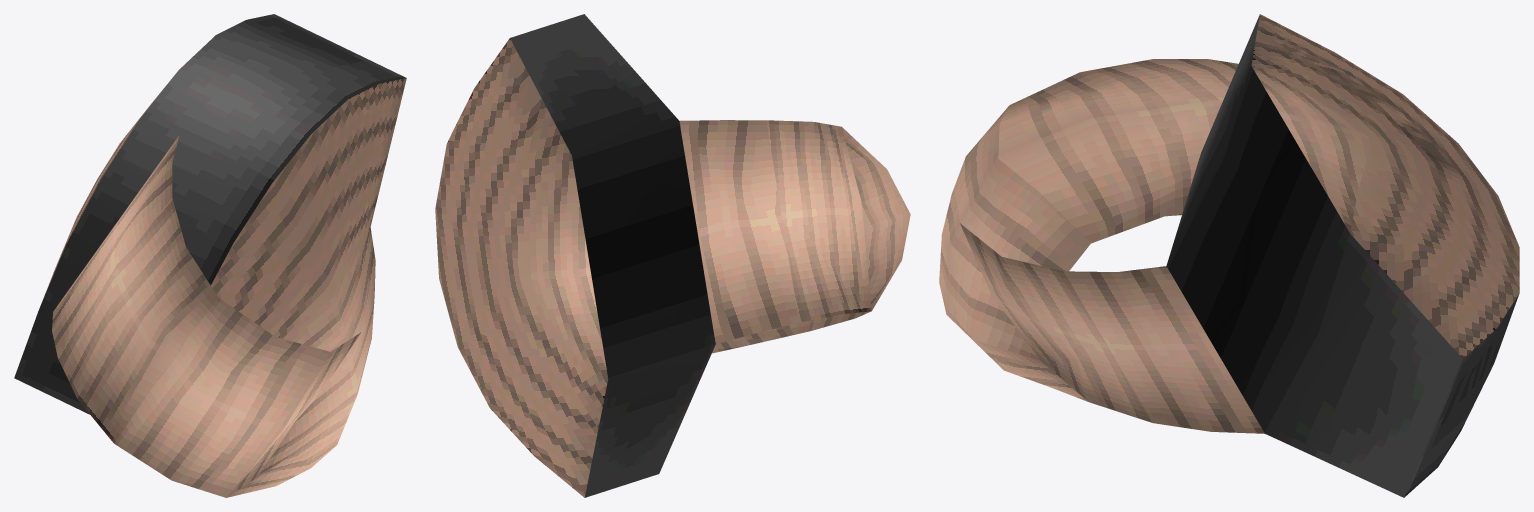
Rendered from ps2_save-icons_shinmegamitenseidds2.glb.
3 renders of one model, left to right at view 1: azimuth 30°, elevation 25°; view 2: azimuth 150°, elevation 25°; view 3: azimuth 270°, elevation 25°, orthographic. The views are drawn at different scales.
Parts seen in each view (by area): view 1: base.ico; view 2: base.ico; view 3: base.ico.
Boxes of the visible parts, bbox=[...] form: base.ico: bbox=[14, 14, 406, 497]; base.ico: bbox=[435, 14, 910, 497]; base.ico: bbox=[939, 14, 1519, 497].
Bounding box in the file's own units: 2.87 × 3.53 × 3.58.
Materials: 1 (1 with a texture image).
